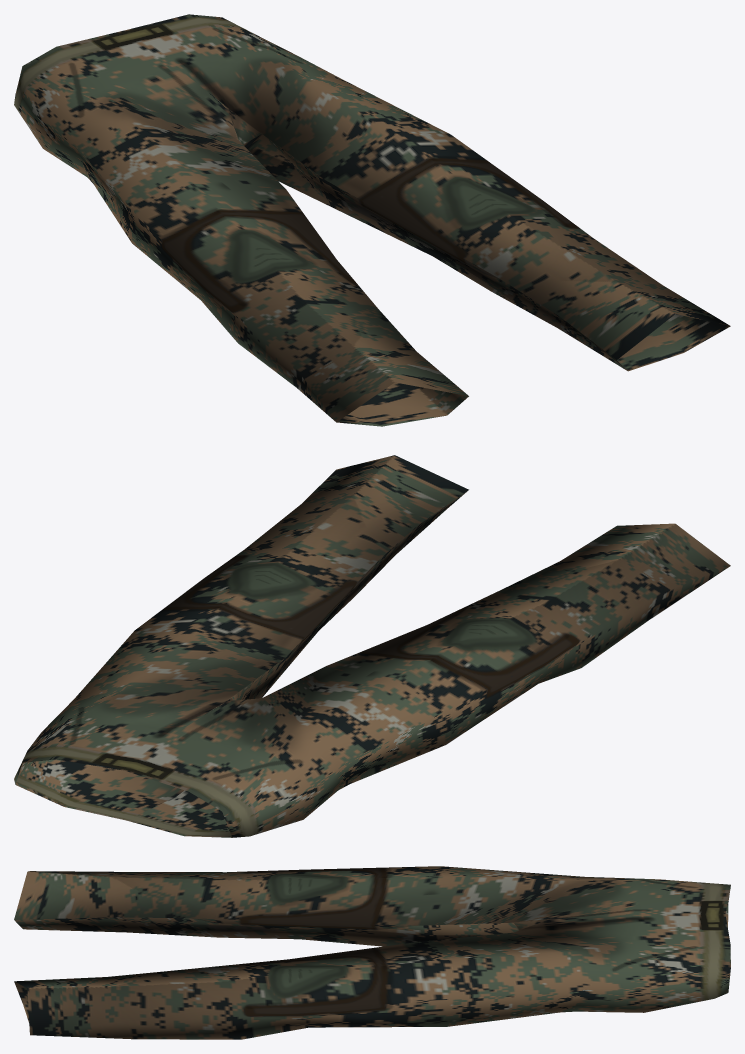
File: Marpat_Pants_WorldItem.fbx
The picture shows the model from 3 angles, top to bottom: view 1: azimuth 30°, elevation 25°; view 2: azimuth 150°, elevation 25°; view 3: azimuth 270°, elevation 25°; orthographic projection. The views are drawn at different scales.
Parts seen in each view (by area): view 1: Body.002; view 2: Body.002; view 3: Body.002.
Part boxes in pixels (bbox=[...]): Body.002: bbox=[14, 14, 730, 426]; Body.002: bbox=[14, 455, 730, 837]; Body.002: bbox=[14, 866, 730, 1039].
Bounding box in the file's own units: 0.5323 × 0.0444 × 0.2883.
